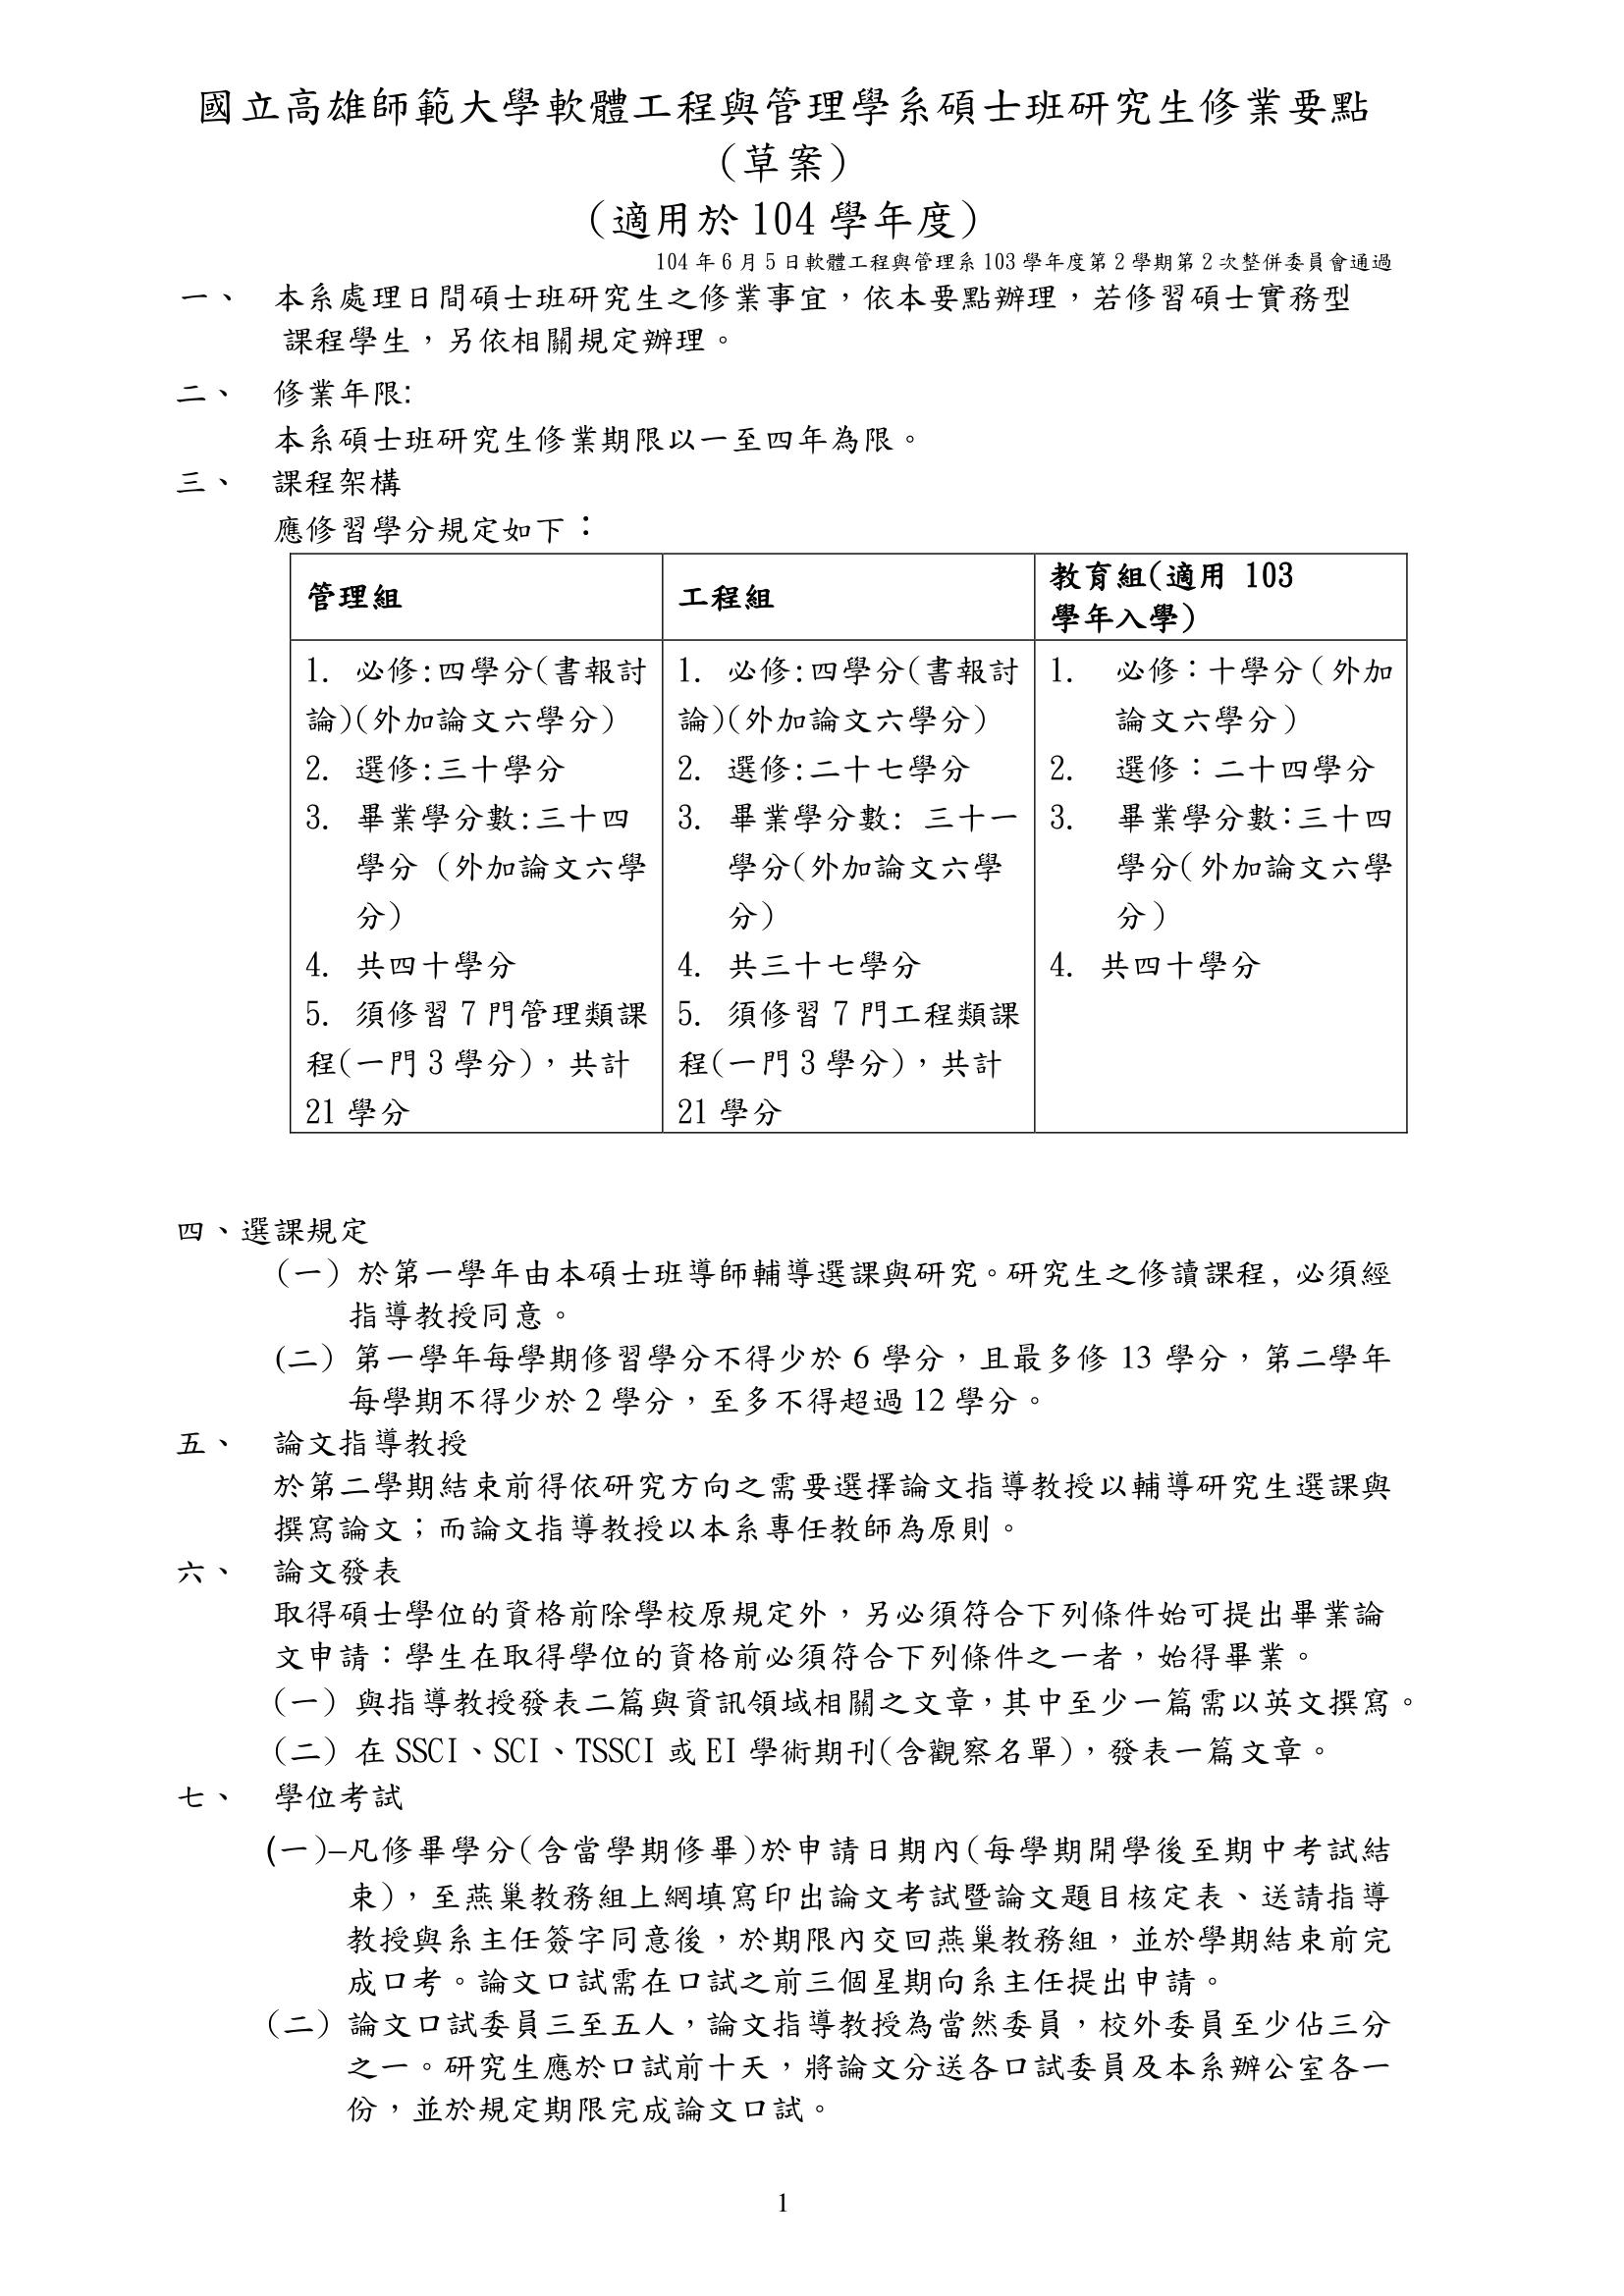table: (283, 546, 1418, 1147)
text: (162, 1774, 1417, 2134), (160, 1555, 1464, 1774), (149, 1209, 1438, 1423), (163, 63, 1410, 242), (163, 1430, 1457, 1548), (170, 276, 1367, 360), (163, 374, 990, 455), (160, 455, 608, 539), (652, 237, 1424, 276)
